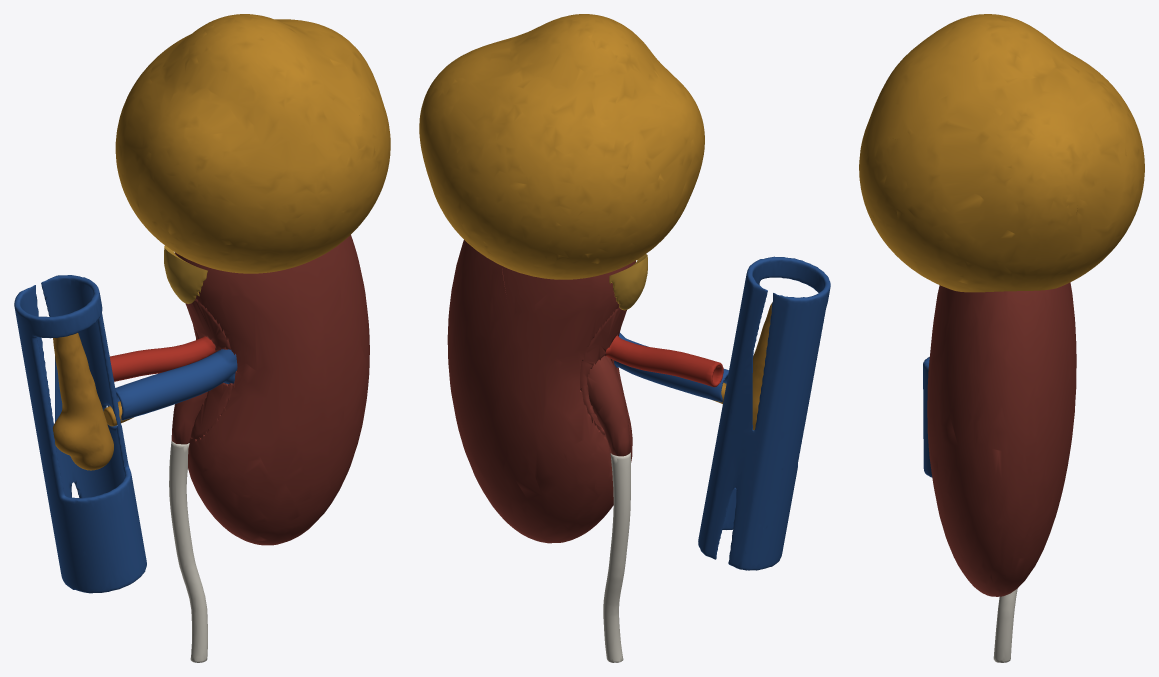
File: kidney_t3b.glb
3 renders of one model, left to right at view 1: azimuth 30°, elevation 25°; view 2: azimuth 150°, elevation 25°; view 3: azimuth 270°, elevation 25°, orthographic. The views are drawn at different scales.
Visible parts, largest first — view 1: tumor, kidney_body, ivc, ivc_thrombus, renal_vein, ureter, renal_artery, adrenal_gland; view 2: tumor, kidney_body, ivc, ureter, renal_artery, renal_vein, adrenal_gland, ivc_thrombus; view 3: tumor, kidney_body, ureter, ivc.
Part boxes in pixels (x1=…): tumor: x1=115, y1=14, x2=390, y2=273; kidney_body: x1=171, y1=235, x2=369, y2=545; ivc: x1=14, y1=275, x2=146, y2=593; ivc_thrombus: x1=53, y1=333, x2=113, y2=470; renal_vein: x1=107, y1=349, x2=237, y2=420; ureter: x1=169, y1=441, x2=207, y2=662; renal_artery: x1=110, y1=336, x2=217, y2=381; adrenal_gland: x1=164, y1=245, x2=207, y2=303; tumor: x1=419, y1=14, x2=704, y2=279; kidney_body: x1=447, y1=240, x2=635, y2=543; ivc: x1=698, y1=256, x2=830, y2=570; ureter: x1=603, y1=452, x2=630, y2=662; renal_artery: x1=604, y1=335, x2=723, y2=387; renal_vein: x1=614, y1=333, x2=728, y2=402; adrenal_gland: x1=609, y1=254, x2=647, y2=310; ivc_thrombus: x1=752, y1=302, x2=772, y2=430; tumor: x1=859, y1=14, x2=1144, y2=292; kidney_body: x1=927, y1=282, x2=1076, y2=596; ureter: x1=993, y1=588, x2=1017, y2=662; ivc: x1=923, y1=357, x2=932, y2=477.
Size of the model in its own units: 10.96 by 17.79 by 7.
